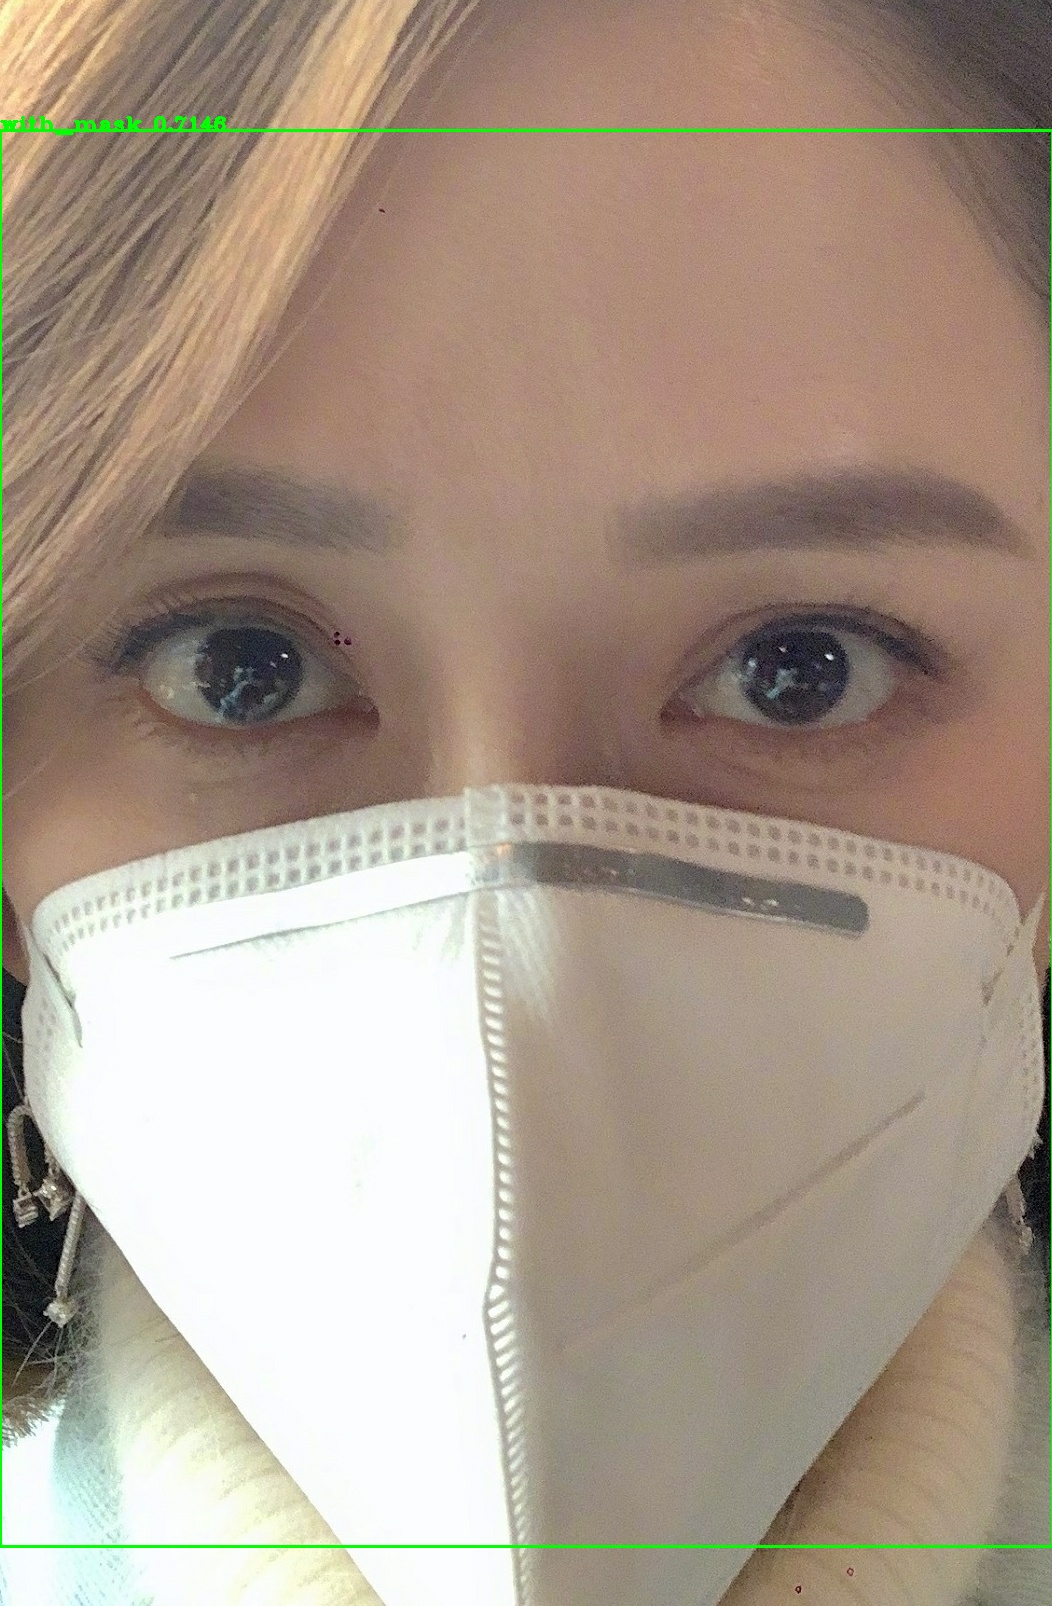with_mask: (5, 3, 1052, 1606)
